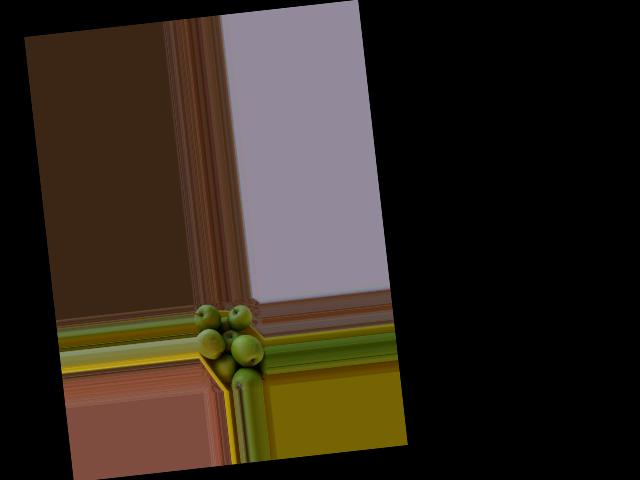apple: (208, 353, 239, 385)
